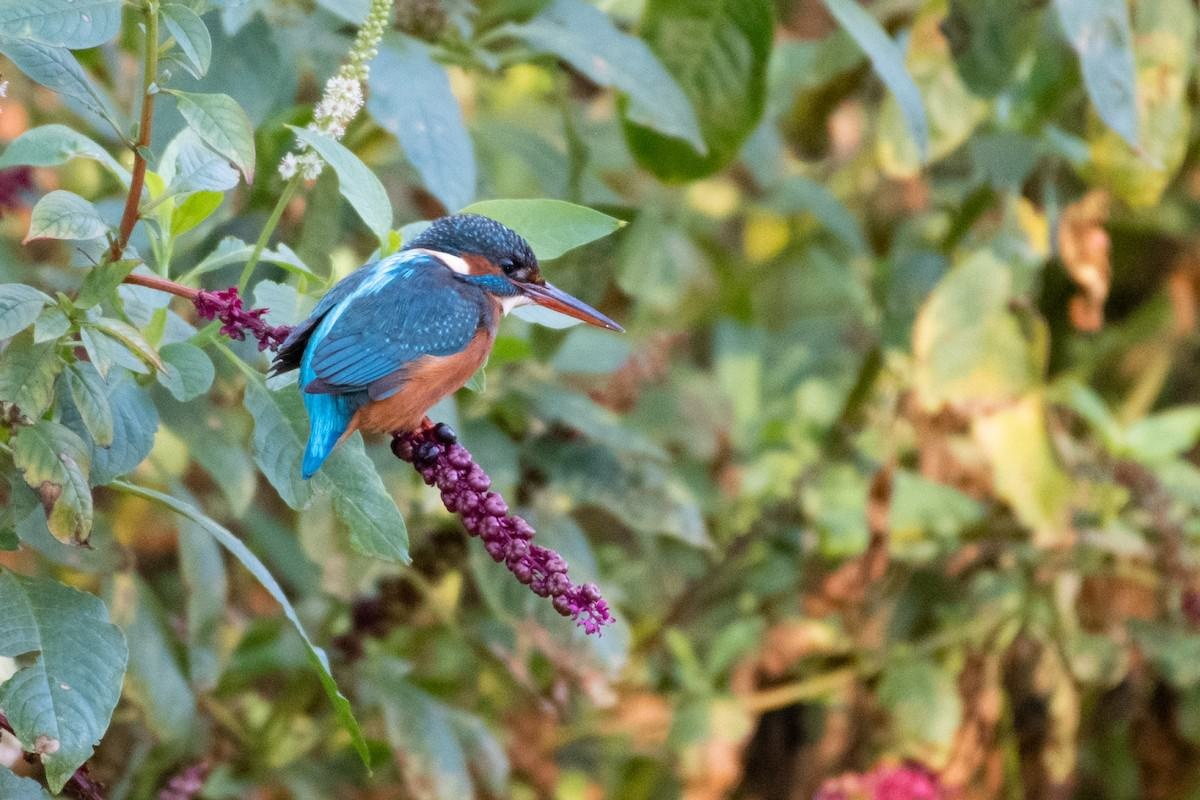kingfisher: (268, 196, 634, 460)
